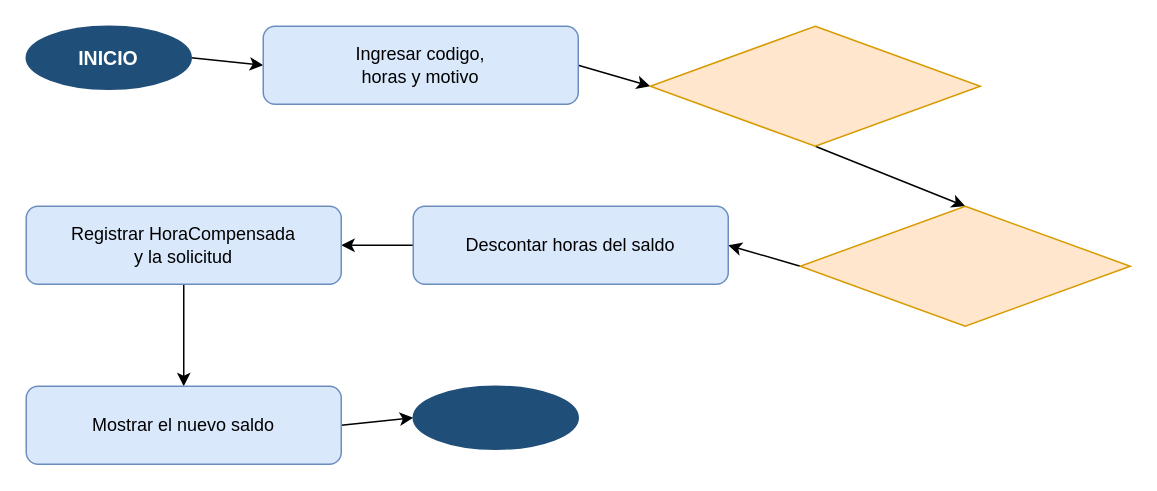
Some shapes in this 1157 by 491 pixel diagram are drawn without their labels. The shapes that lost their labels are listed below. From the top down, each one's centre as x and y in pixels, then its label:
At pixel 814 85: "0 < horas <= 24?".
At pixel 964 265: "Saldo suficiente?".
At pixel 495 417: "FIN".
